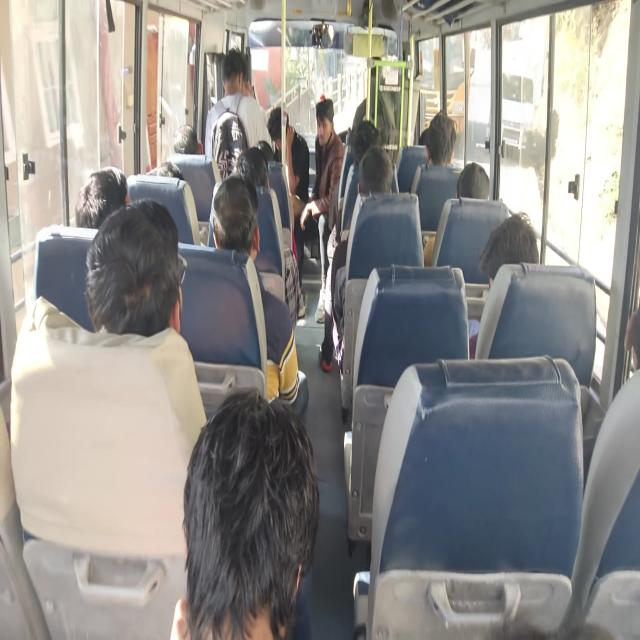person: (199, 411, 314, 618), (85, 214, 175, 365), (48, 165, 130, 248), (598, 297, 640, 410), (360, 146, 404, 204), (490, 248, 534, 305), (213, 177, 247, 250), (308, 96, 353, 144), (444, 157, 484, 207), (219, 54, 251, 108), (262, 102, 296, 150), (230, 146, 263, 192), (422, 111, 447, 157), (170, 123, 197, 163), (356, 118, 384, 152), (157, 159, 183, 189), (256, 135, 276, 165), (417, 126, 434, 147)
